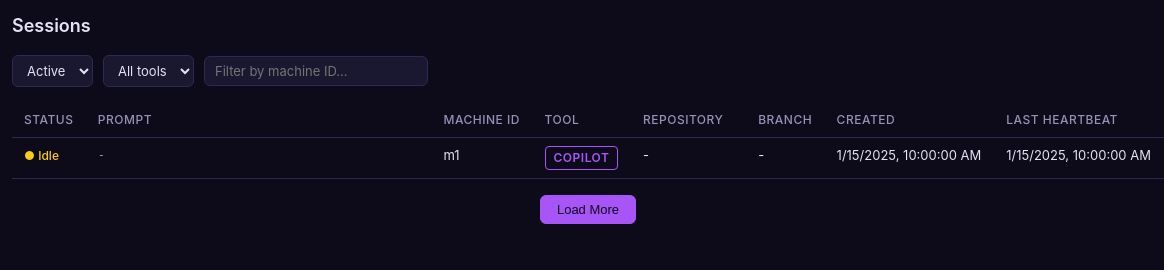
it: SessionList › pagination › Load More appends sessions, does not replace
Expected: the text "m1" is shown, [432,138,533,178]
Expected: the text "m2" is not shown
Click the button "Load More".
click(588, 210)  # box [540,195,636,224]
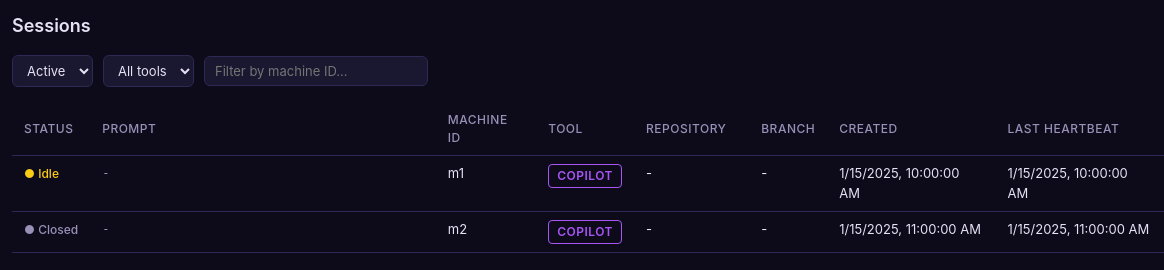
Expected: the text "m1" is shown, [436,156,536,212]
Expected: the text "m2" is shown, [436,212,536,252]
